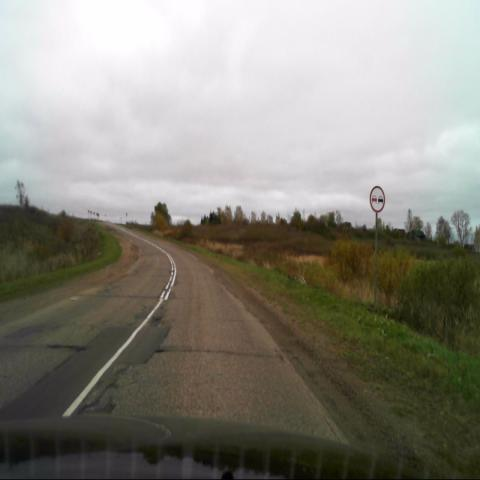3_20: (369, 184, 385, 213)
